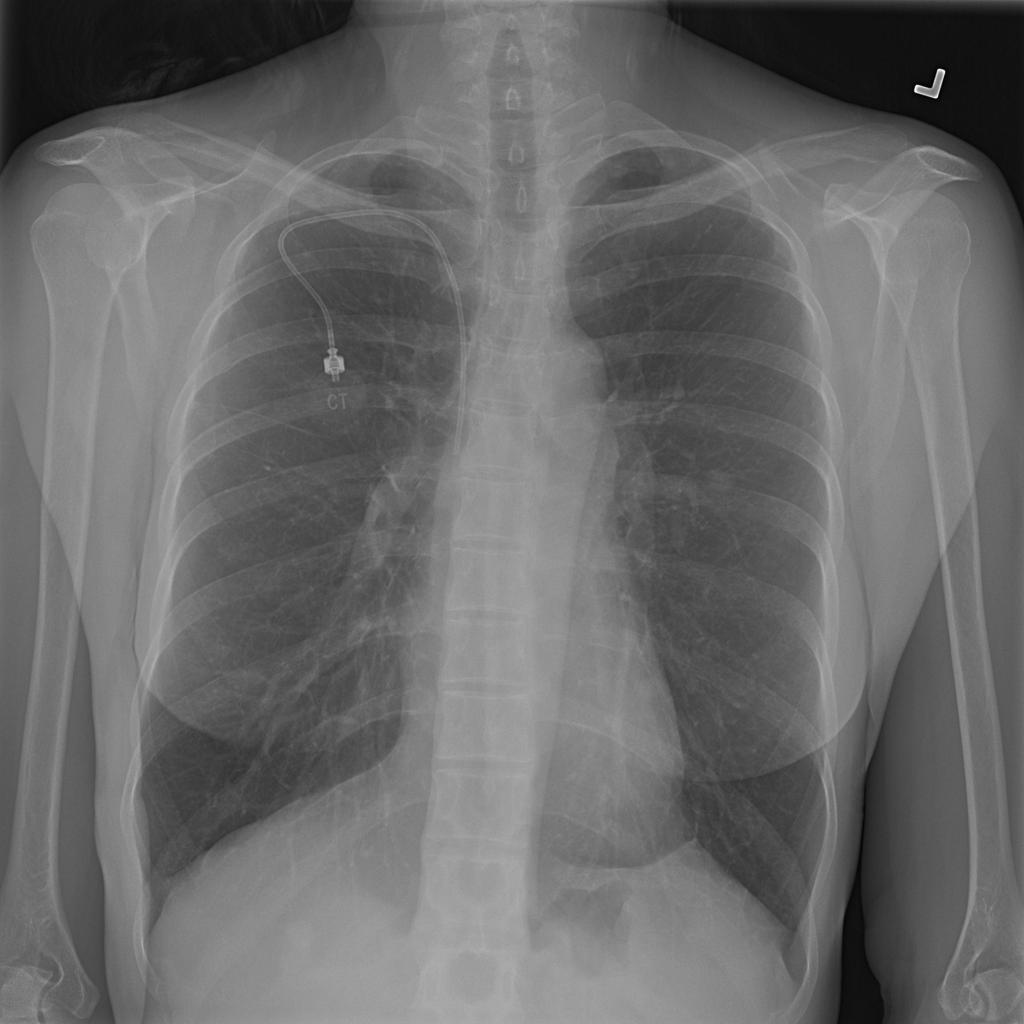nodule: (695, 459, 748, 506)
